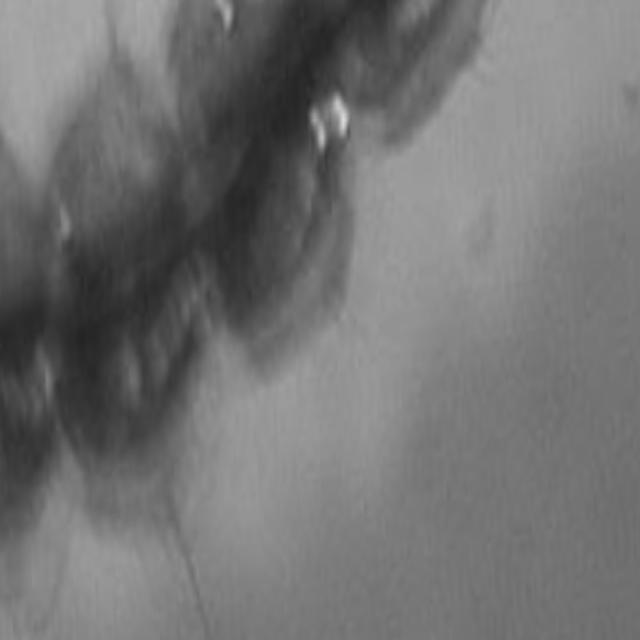larvas: (0, 0, 484, 455)
